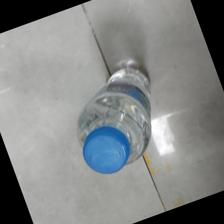Lavie: (70, 65, 159, 174)
